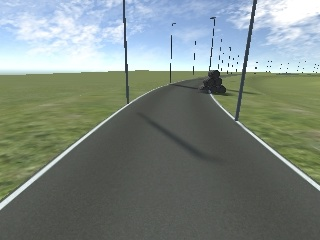strange_object: (195, 65, 227, 97)
